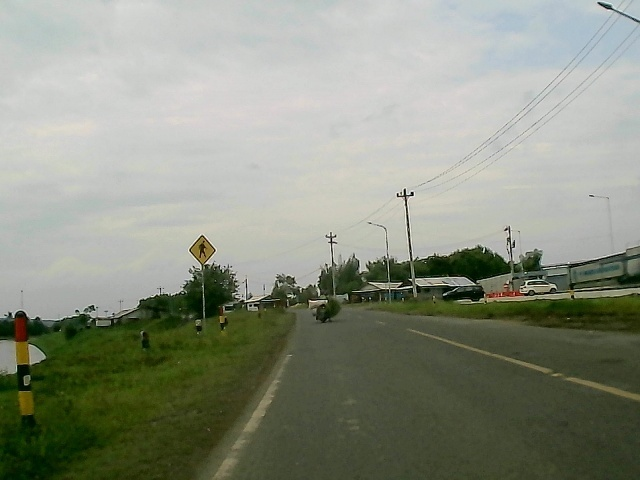Peringatan orang menyeberang: (186, 234, 216, 268)
